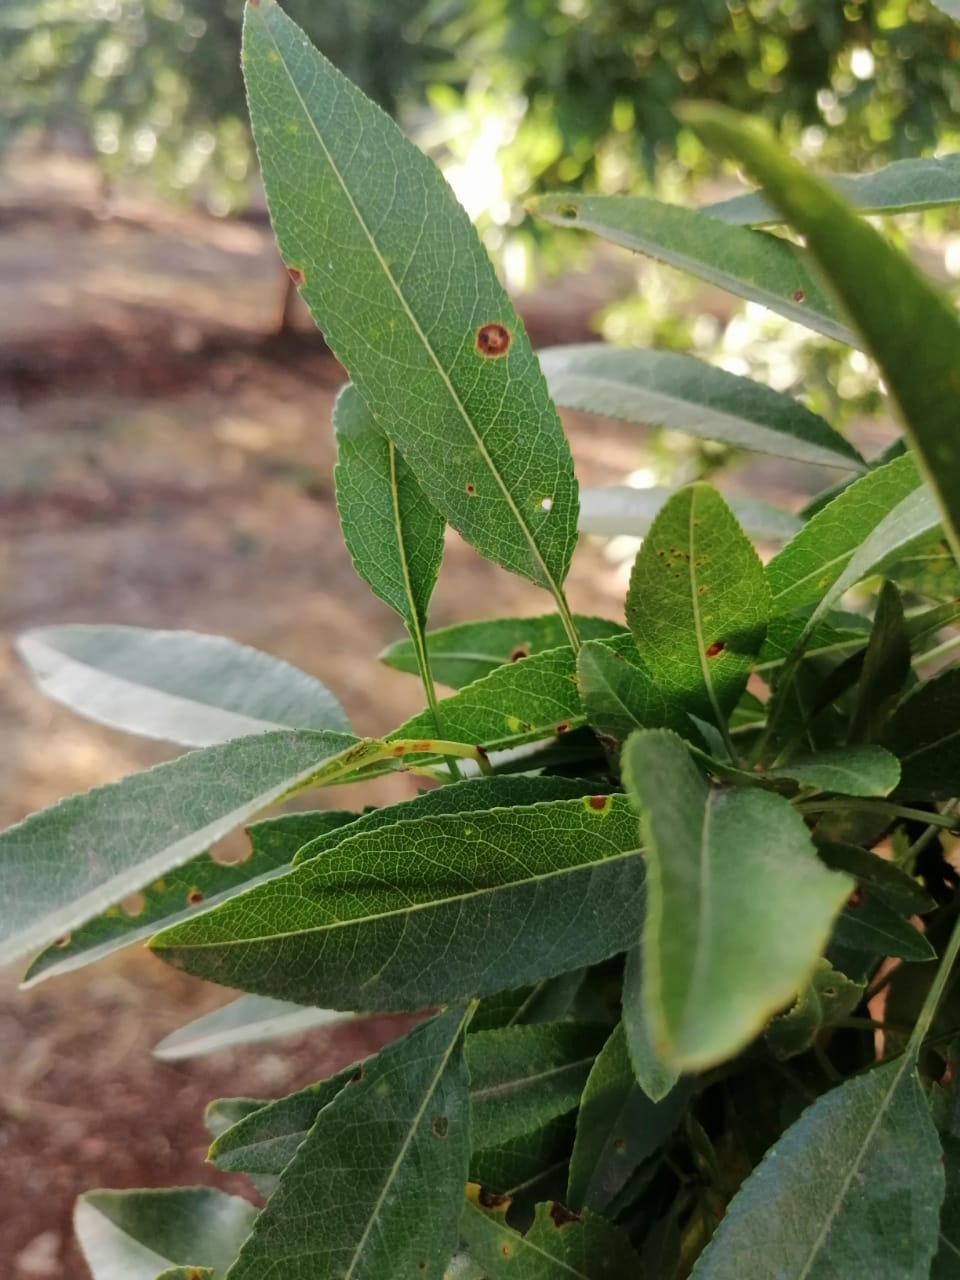coryneum: (240, 1, 583, 598), (144, 790, 651, 1018), (622, 481, 776, 727)
